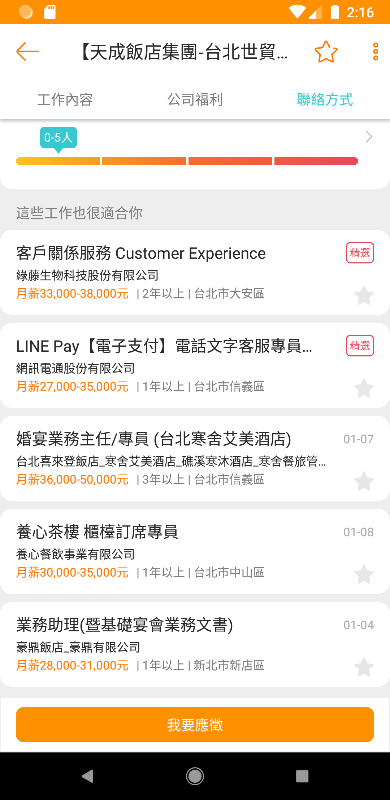button: (10, 704, 379, 745), (1, 37, 47, 72), (306, 32, 343, 71), (338, 330, 382, 360), (342, 239, 382, 271), (360, 28, 388, 69), (346, 651, 379, 682), (348, 466, 380, 495), (348, 560, 380, 589), (351, 374, 379, 403), (351, 282, 376, 309), (361, 124, 380, 154)
